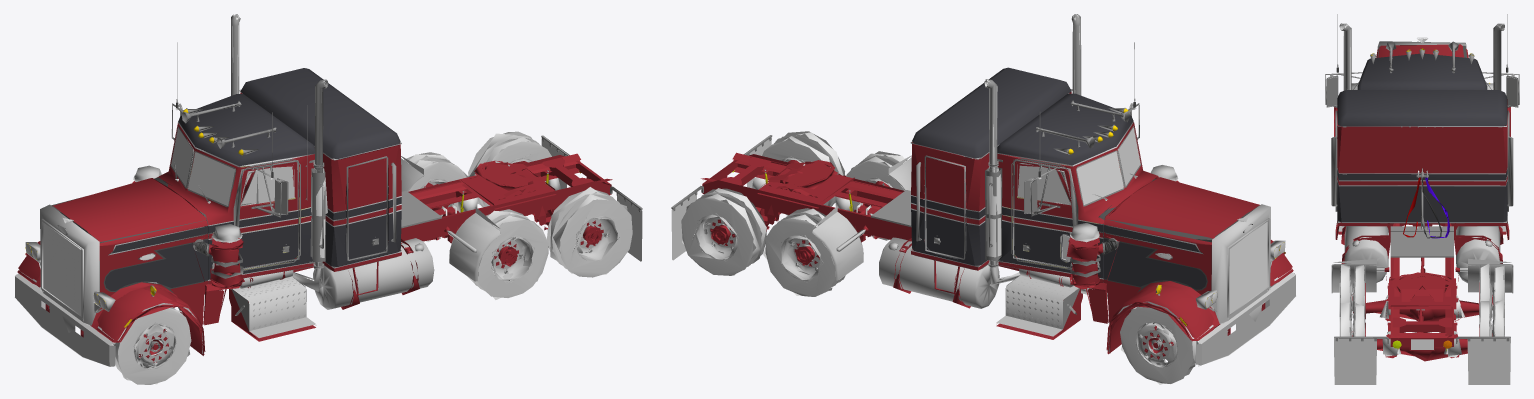
File: veh-semi.glb
The picture shows the model from 3 angles, left to right: view 1: azimuth 30°, elevation 25°; view 2: azimuth 150°, elevation 25°; view 3: azimuth 270°, elevation 25°; orthographic projection. The views are drawn at different scales.
Visible parts, largest first — view 1: p0; view 2: p0; view 3: p0.
Part boxes in pixels (x1,y1,x2,y2): p0: (14,14,642,384); p0: (671,14,1295,384); p0: (1325,14,1519,384).
Bounding box in the file's own units: 8.2 × 3.87 × 2.91.
